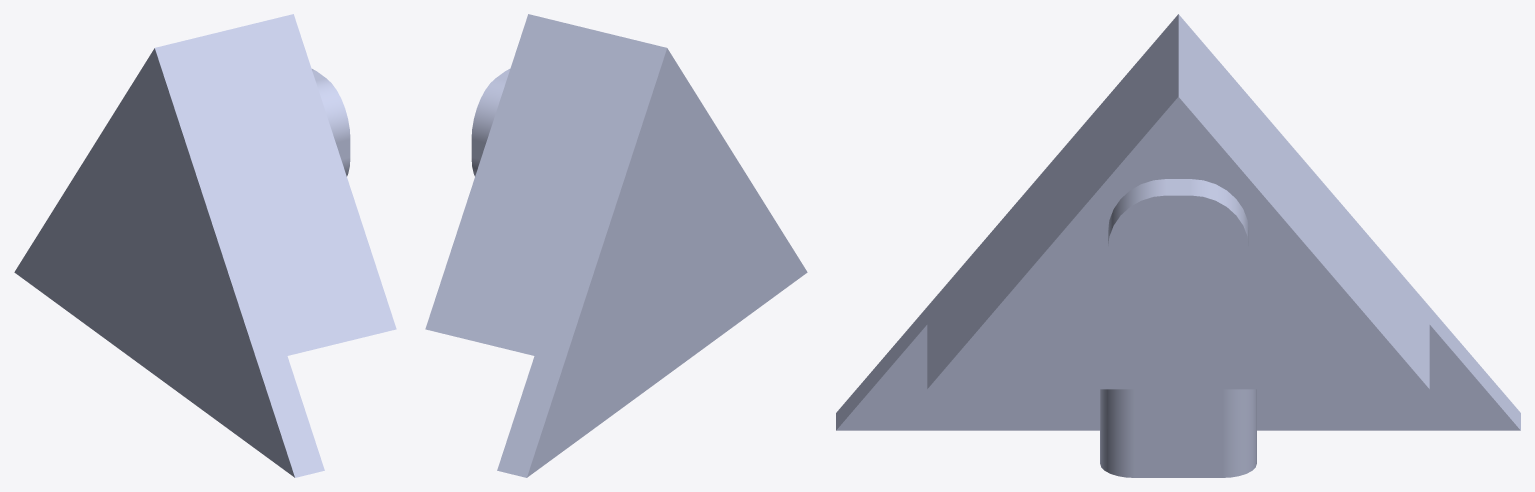
Rendered from triangle.obj.
3 views of the same model, side by side, from view 1: azimuth 30°, elevation 25°; view 2: azimuth 150°, elevation 25°; view 3: azimuth 270°, elevation 25° (orthographic). The views are drawn at different scales.
Parts seen in each view (by area): view 1: Root|cali_VISUALIZE_(Default)|Merged_Parts|Part; view 2: Root|cali_VISUALIZE_(Default)|Merged_Parts|Part; view 3: Root|cali_VISUALIZE_(Default)|Merged_Parts|Part.
Part boxes in pixels (x1,y1,x2,y2): Root|cali_VISUALIZE_(Default)|Merged_Parts|Part: [14, 14, 396, 477]; Root|cali_VISUALIZE_(Default)|Merged_Parts|Part: [425, 14, 807, 477]; Root|cali_VISUALIZE_(Default)|Merged_Parts|Part: [836, 14, 1520, 477].
Bounding box in the file's own units: 0.048 × 0.09 × 0.14.
